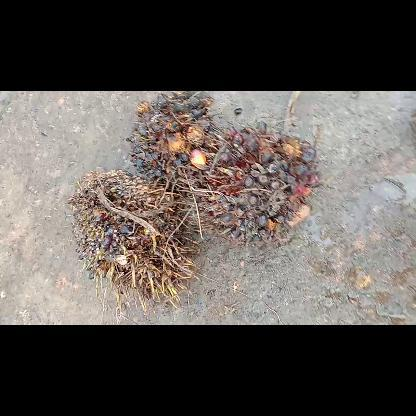TBS abnormal: (72, 169, 196, 311), (179, 122, 319, 246), (128, 90, 220, 184)
